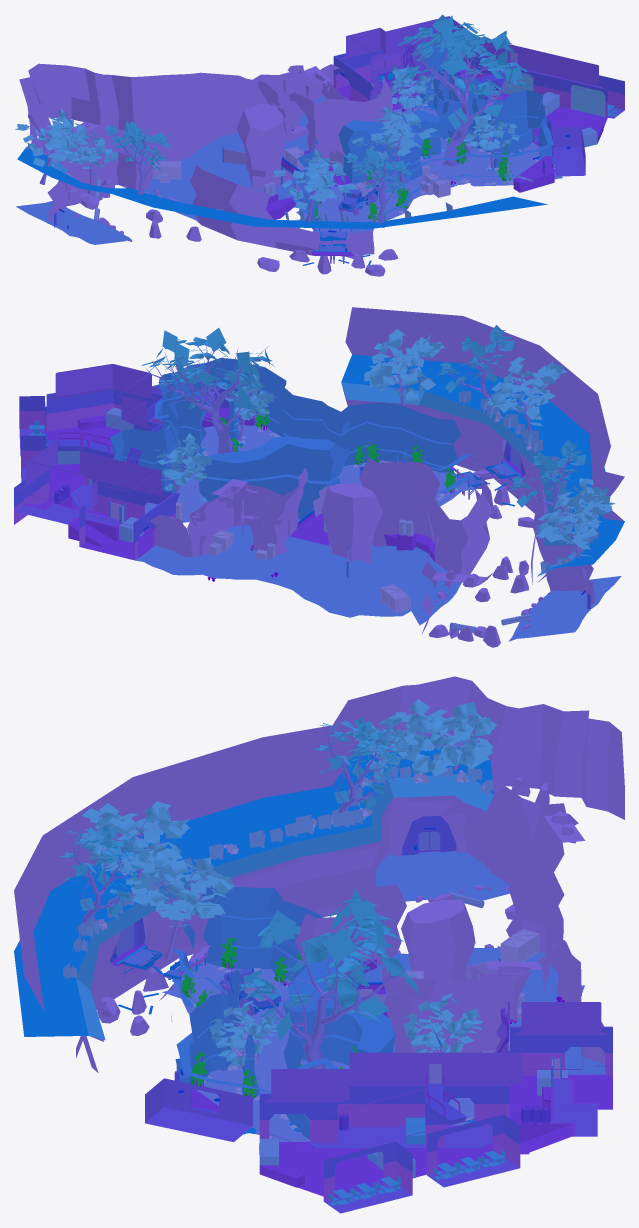
File: oldforest.gltf
The picture shows the model from 3 angles, top to bottom: view 1: azimuth 30°, elevation 25°; view 2: azimuth 150°, elevation 25°; view 3: azimuth 270°, elevation 25°; orthographic projection. The views are drawn at different scales.
Bounding box in the file's own units: 87.64 × 22.69 × 57.09.
